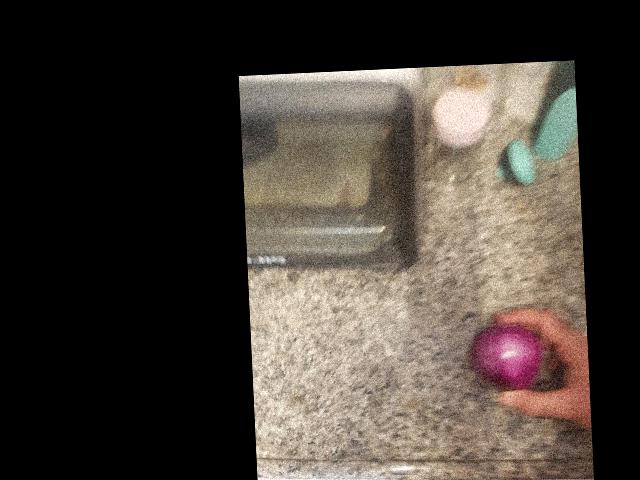onion: (249, 288, 335, 367)
